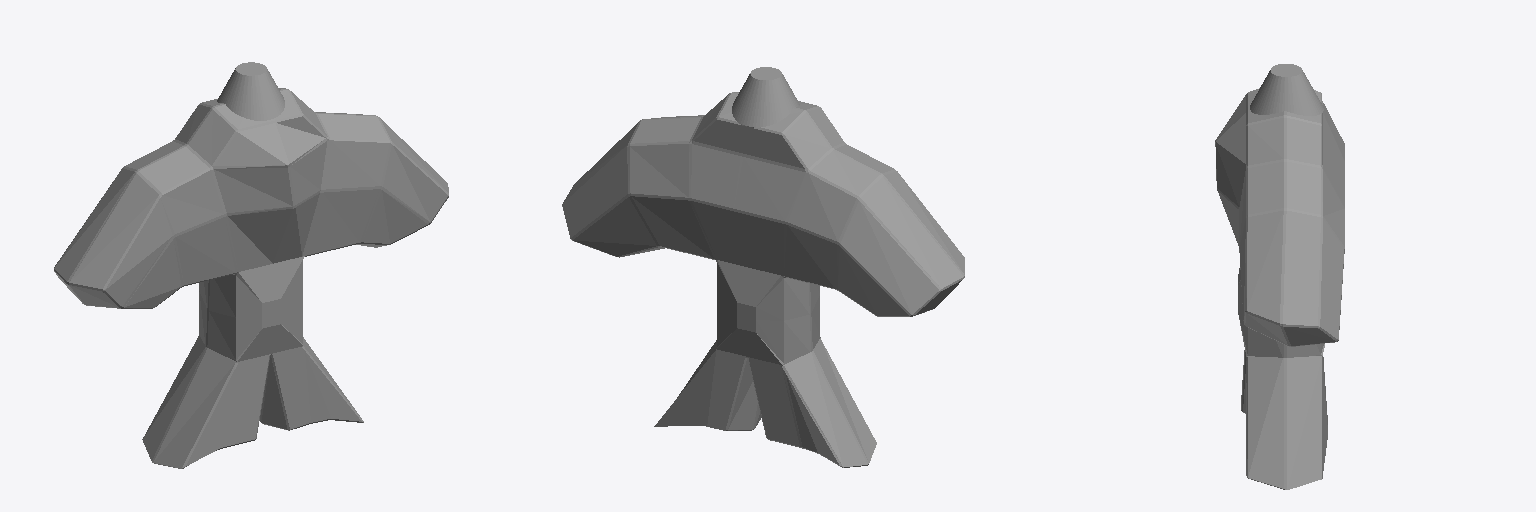
File: StoneGolem.obj
The picture shows the model from 3 angles: view 1: azimuth 30°, elevation 25°; view 2: azimuth 150°, elevation 25°; view 3: azimuth 270°, elevation 25°; orthographic projection.
Visible parts, largest first — view 1: Cube; view 2: Cube; view 3: Cube.
Part boxes in pixels (x1,y1,x2,y2): Cube: (54,62,448,468); Cube: (562,67,964,467); Cube: (1215,64,1344,489).
Size of the model in its own units: 11.66 by 10.71 by 3.4.